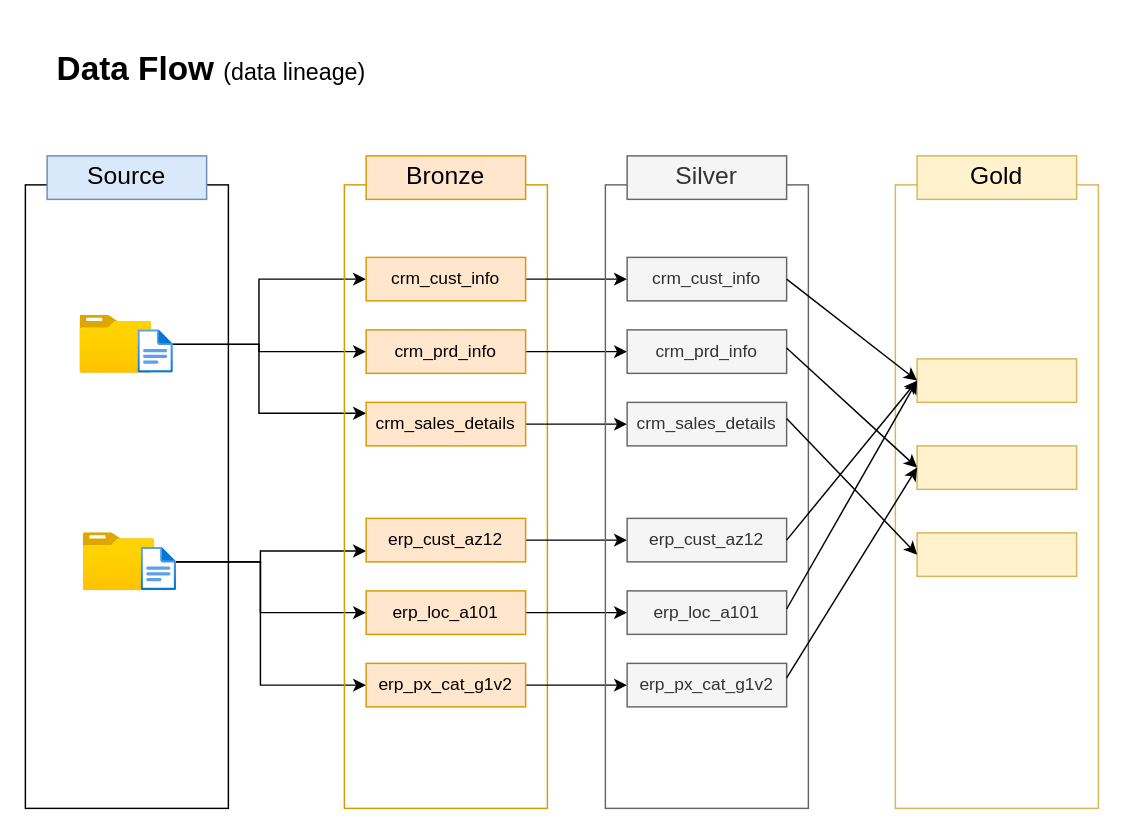
This 1124x834 diagram has some shape labels left out. Here are the shapes that lost their labels. From the top down, the centre of each, then its label:
the point at 115,344: CRM
the point at 996,379: dim_customers
the point at 996,466: dim_products
the point at 118,561: ERP
the point at 996,553: fact_sales
